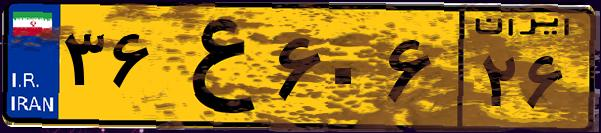0: (330, 28, 385, 110)
2: (475, 38, 525, 113)
3: (57, 26, 110, 100)
6: (270, 28, 330, 110), (385, 28, 445, 110), (525, 38, 570, 115), (110, 28, 158, 98)
ع: (158, 12, 270, 120)
